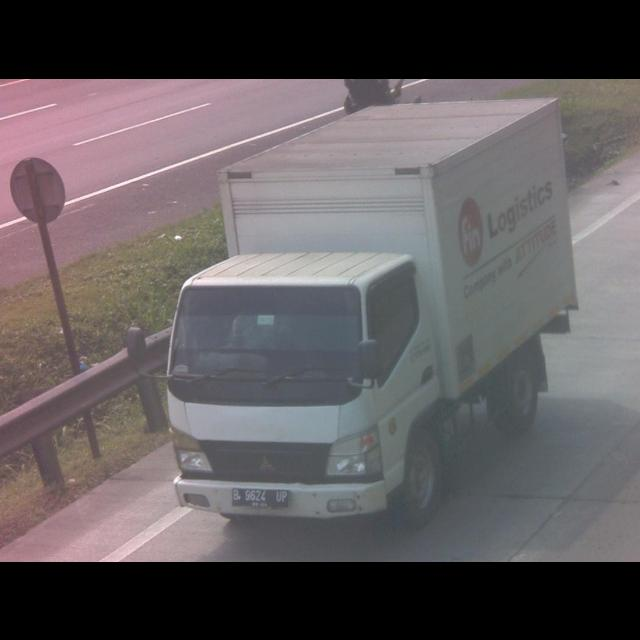plate: (228, 486, 290, 508)
